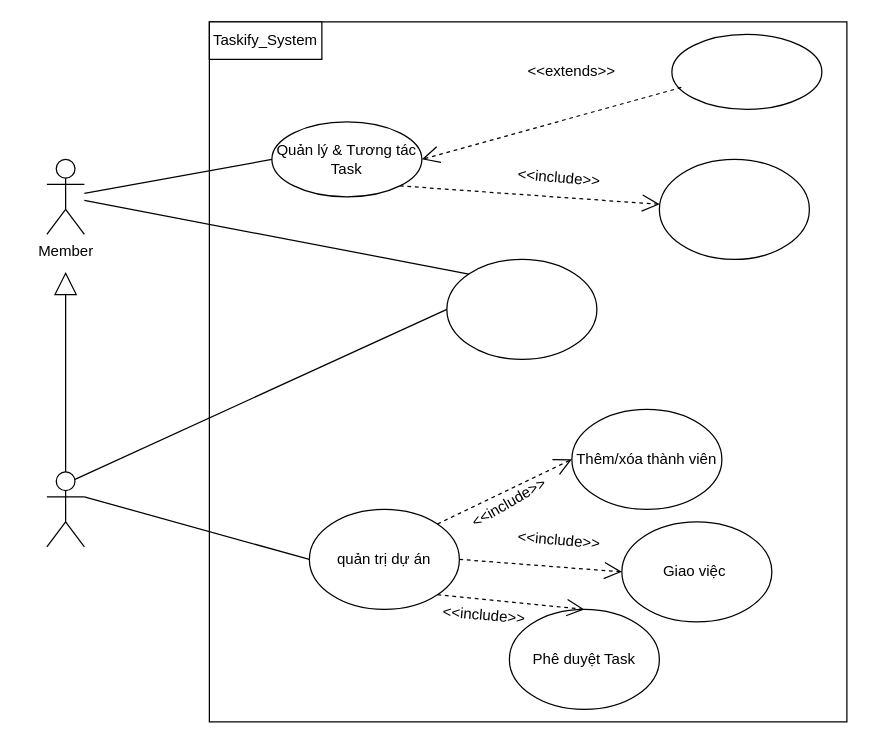
This 869x744 diagram has some shape labels left out. Here are the shapes that lost their labels. From the top down, the box of each, then its label:
(671, 33, 822, 109): Upload file & Comment
(658, 158, 809, 259): Cập nhật trạng thái Task
(446, 258, 597, 359): Đăng nhập/Đăng ký
(46, 471, 84, 547): Team Leader
